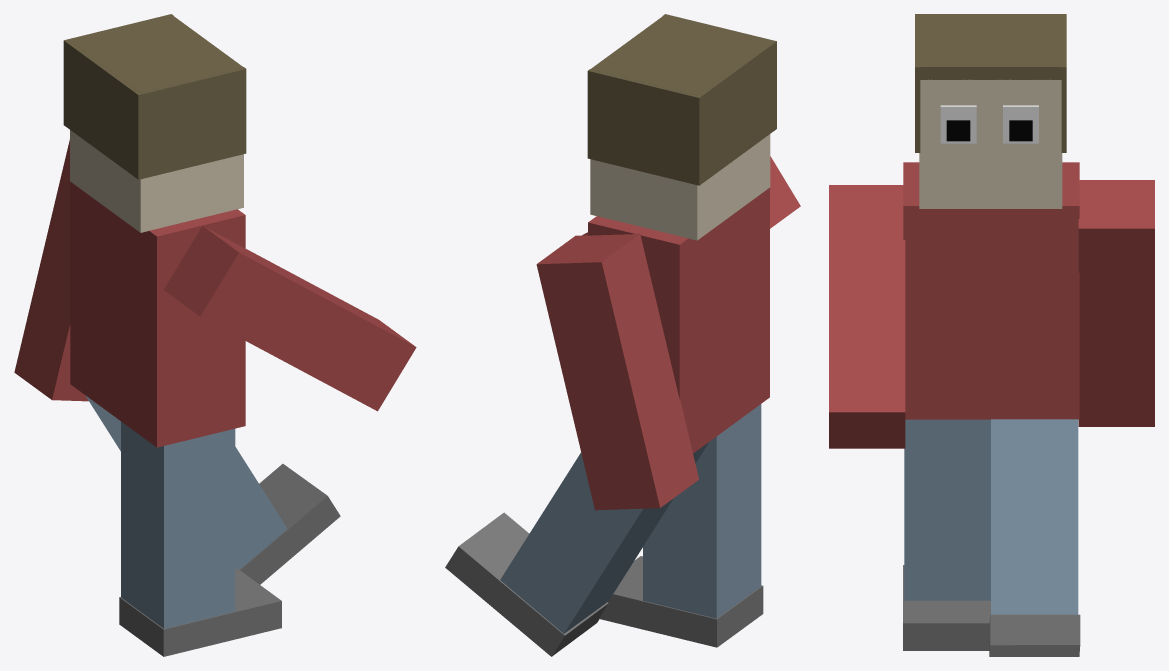
Rendered from Pedestrian 1.fbx.
3 renders of one model, left to right at view 1: azimuth 30°, elevation 25°; view 2: azimuth 150°, elevation 25°; view 3: azimuth 270°, elevation 25°, orthographic. The views are drawn at different scales.
Parts seen in each view (by area): view 1: polySurface8; view 2: polySurface8; view 3: polySurface8.
Boxes of the visible parts, x1=… form: polySurface8: x1=14, y1=14, x2=416, y2=656; polySurface8: x1=445, y1=14, x2=800, y2=656; polySurface8: x1=829, y1=14, x2=1154, y2=656.
Size of the model in its own units: 2.38 by 5.26 by 2.7.
